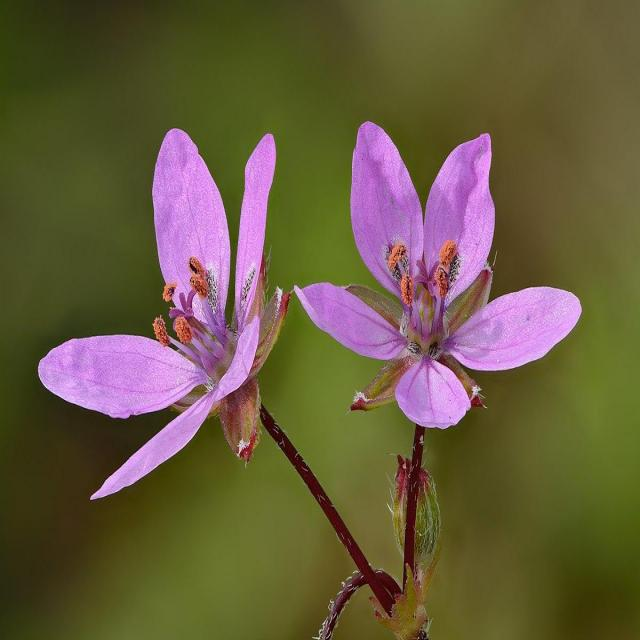organic waste: (42, 111, 289, 504), (298, 110, 591, 440)
